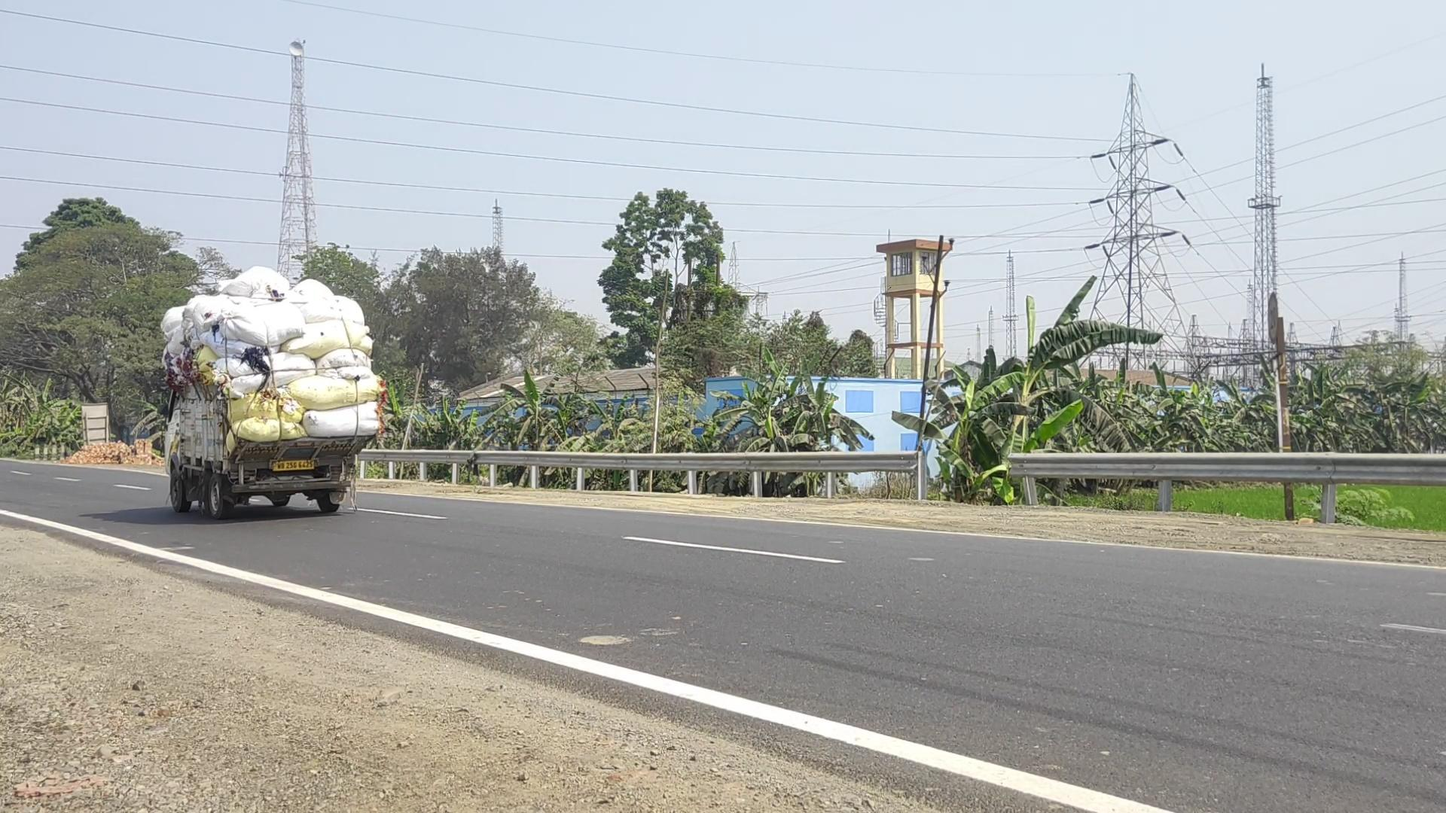van: (160, 266, 385, 520)
